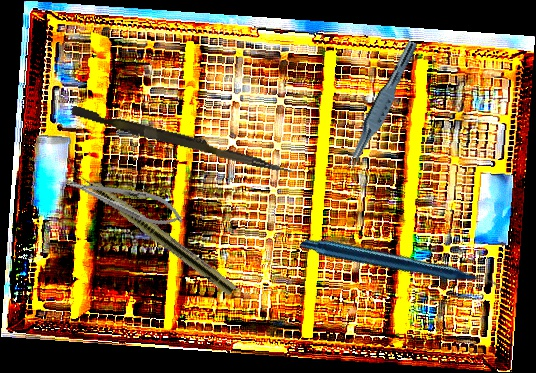Handpiece: (298, 164, 504, 372), (58, 155, 239, 297)
Needle Holder: (61, 166, 188, 234)
Pusher: (69, 105, 296, 176)
Tissue Forceps: (342, 36, 419, 176)
